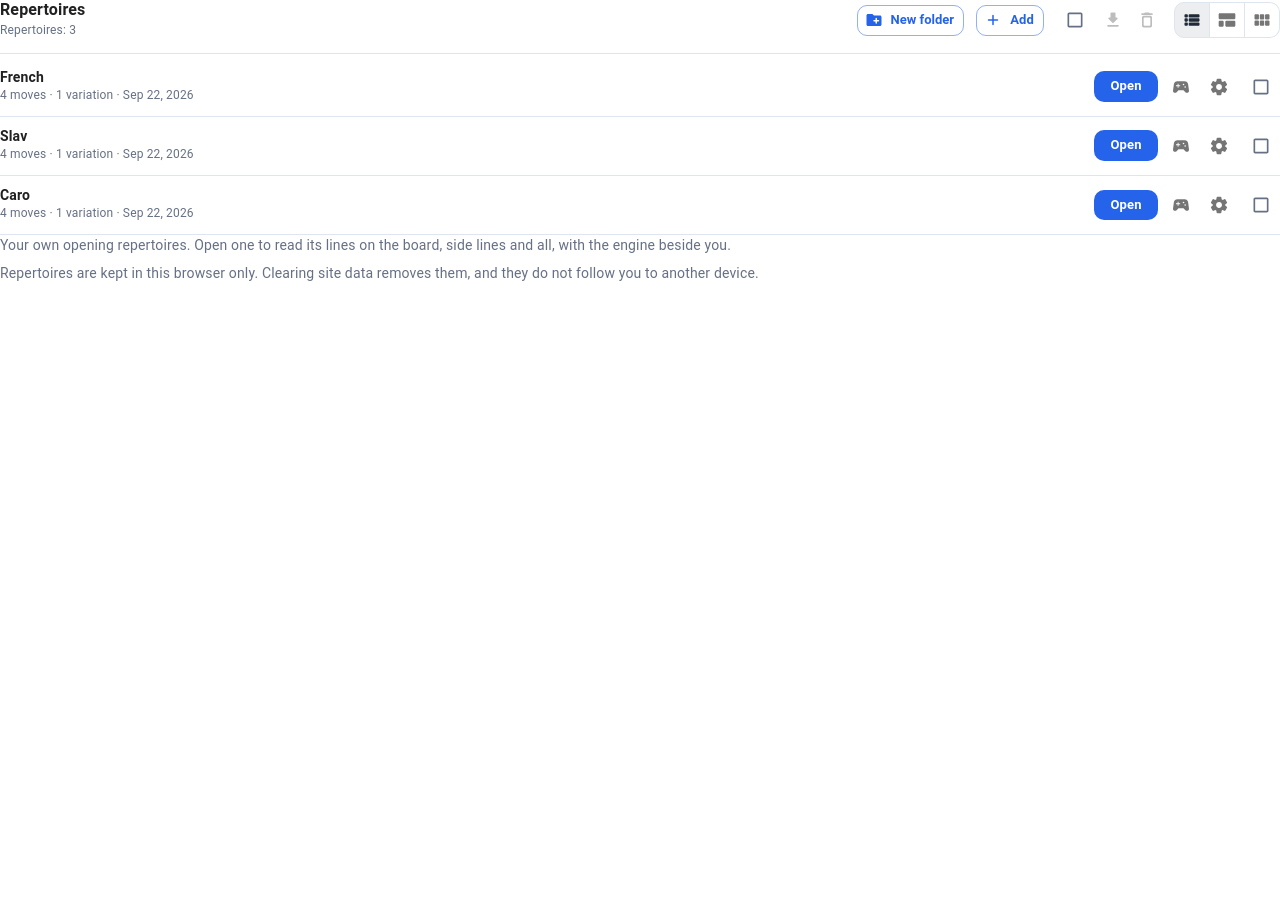
the Repertoires list › deletes the picked repertoires in bulk, after asking
Check: the button with test id "repertoires-delete" is disabled, box [1132,5,1162,35]
Click the checkbox named "Select this repertoire". click: (1261, 205)
box: [1251,195,1271,215]
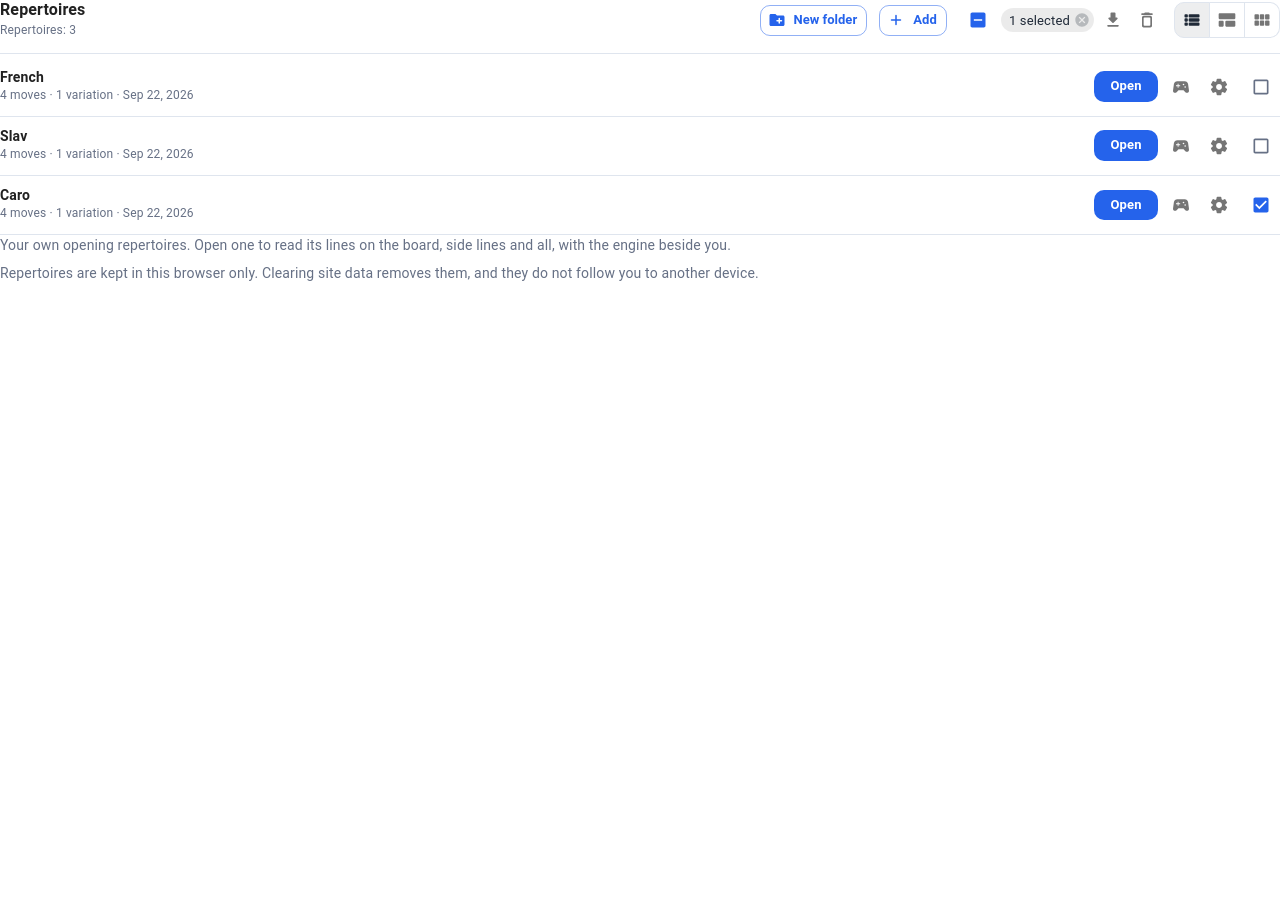
Click the checkbox named "Select this repertoire". click: (1261, 87)
box: [1251,77,1271,97]
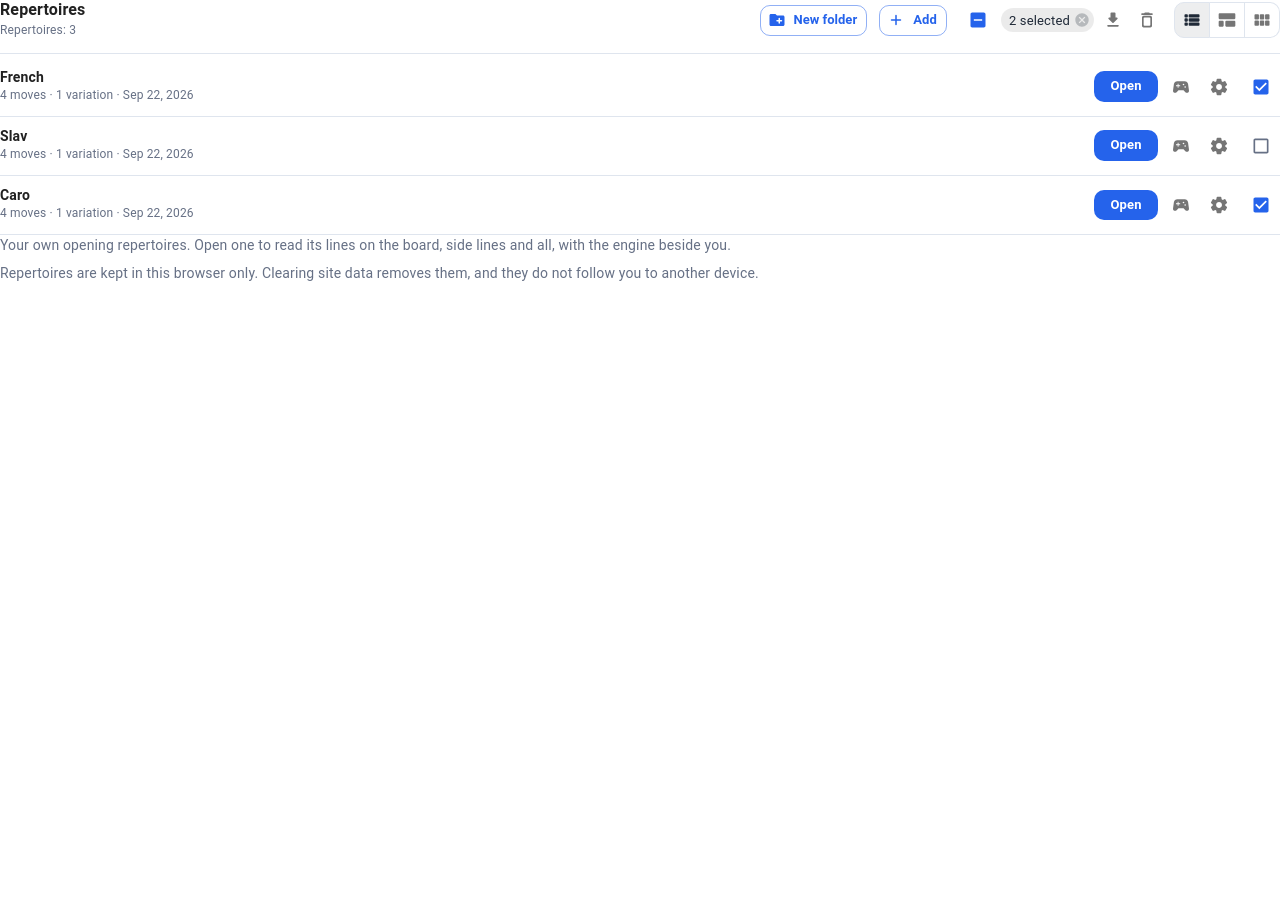
Click the button with test id "repertoires-delete". click: (1147, 20)
box: [1132,5,1162,35]
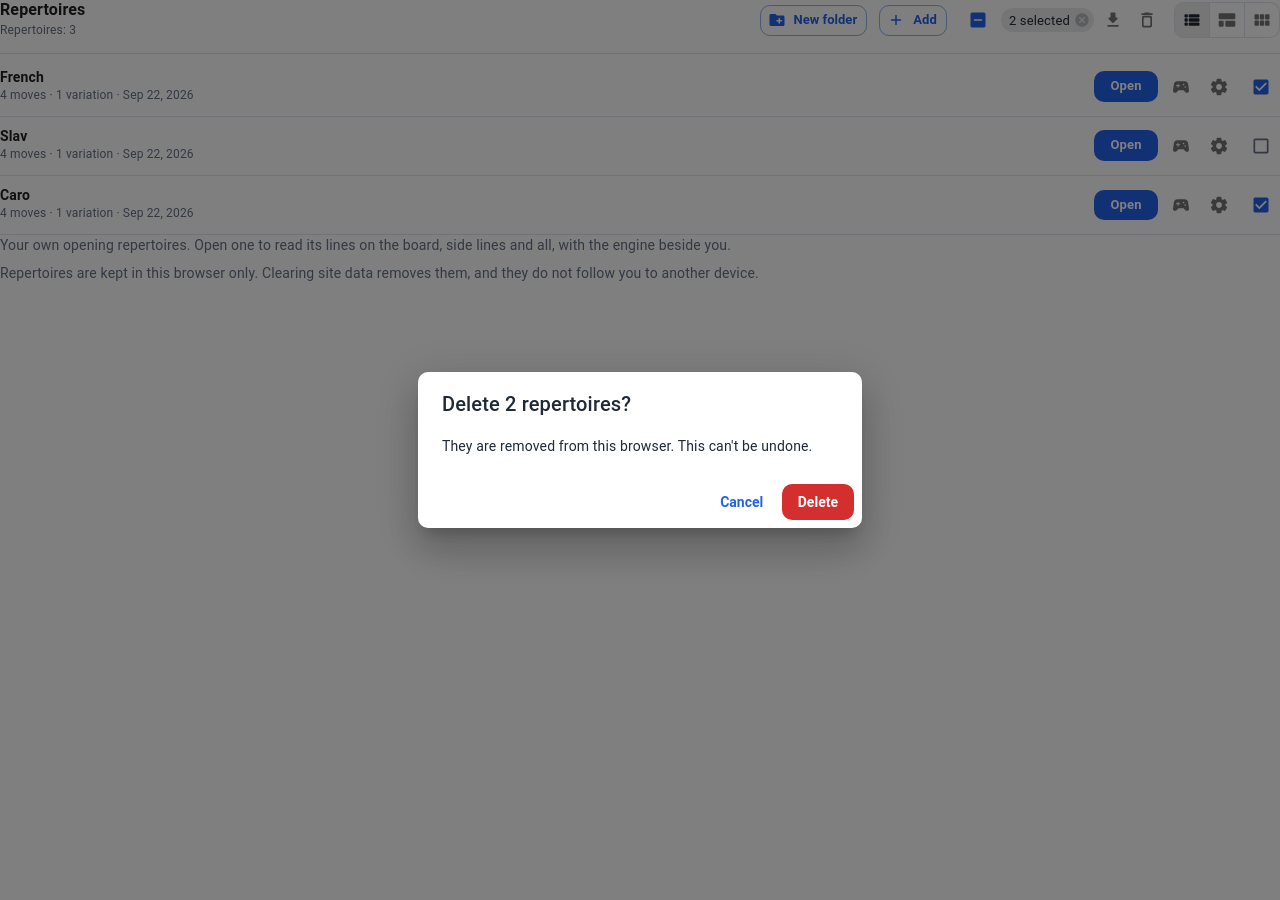
Check: the heading with test id "repertoires-delete-title" reads "Delete 2 repertoires?", box [442,392,631,416]
Click the button with test id "repertoires-delete-confirm". click: (818, 502)
box: [782,484,854,520]
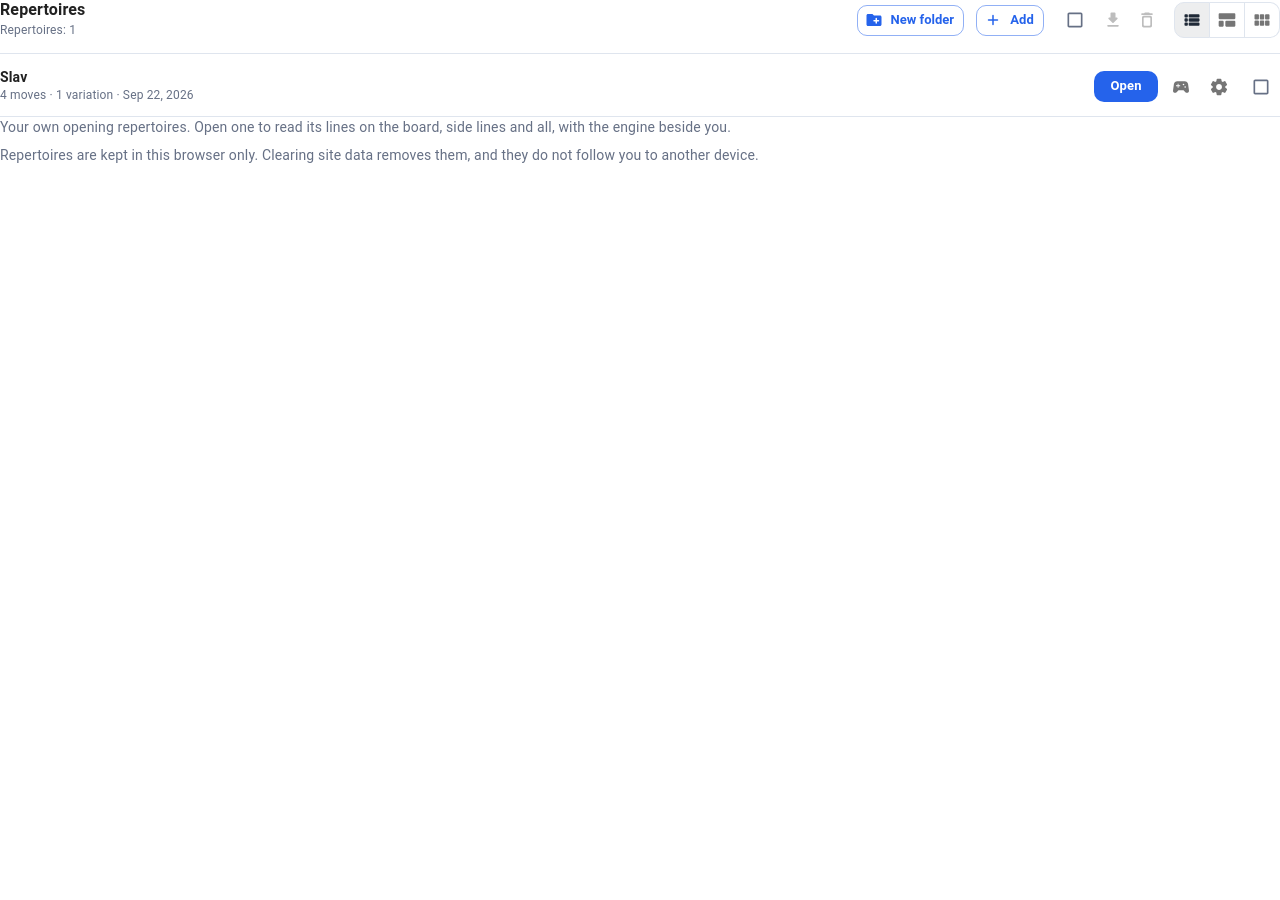
Check: the button with test id "repertoires-selected-count" is gone
Check: the button with test id "repertoires-delete" is disabled, box [1132,5,1162,35]
